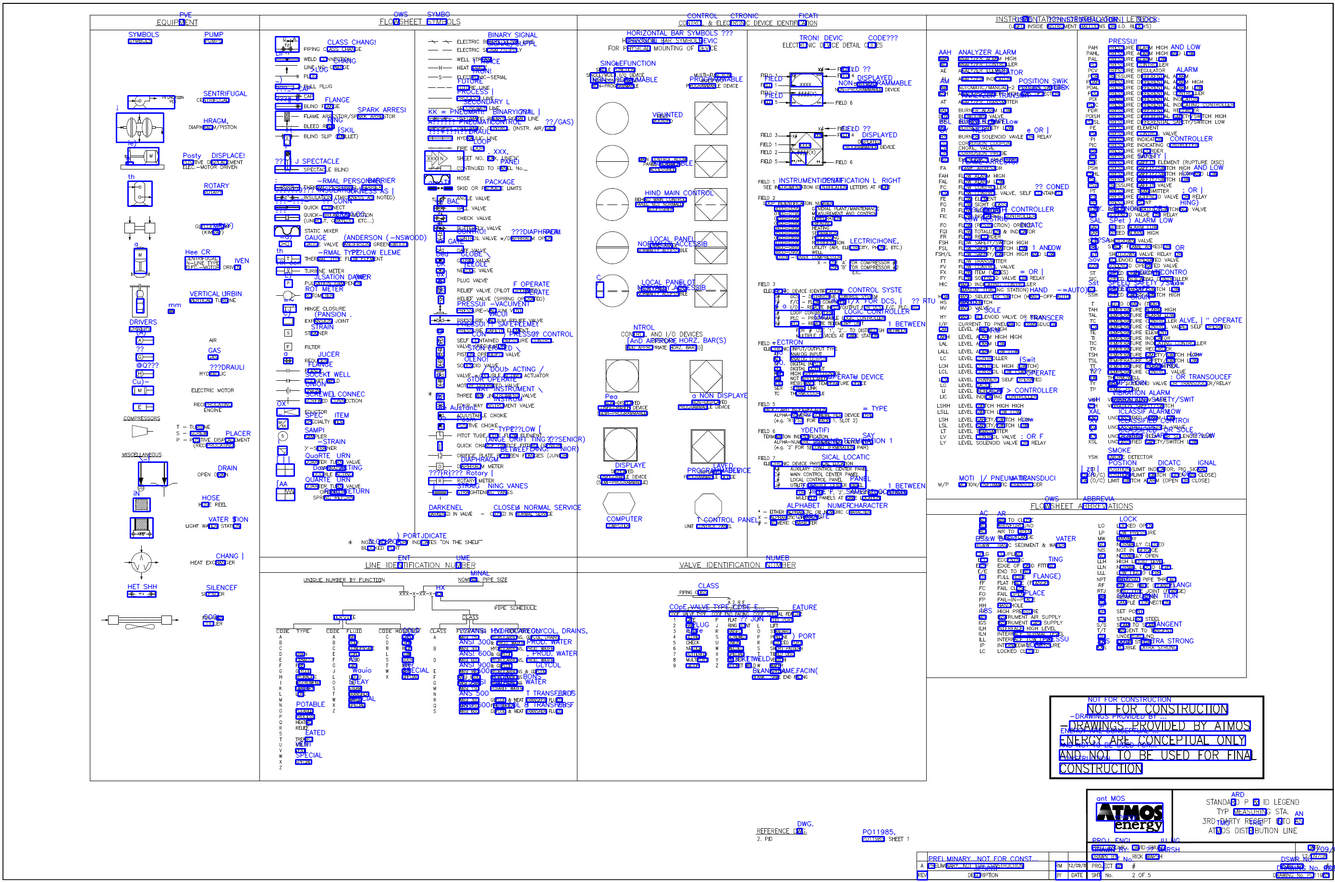Bomba: (125, 91, 157, 110)
Compressor: (130, 423, 154, 438)
Conexão: (275, 396, 302, 405), (276, 387, 300, 395)
Misturador: (274, 224, 300, 236)
Motor: (130, 385, 155, 396)
Válvula: (282, 290, 296, 300), (277, 241, 293, 248)
